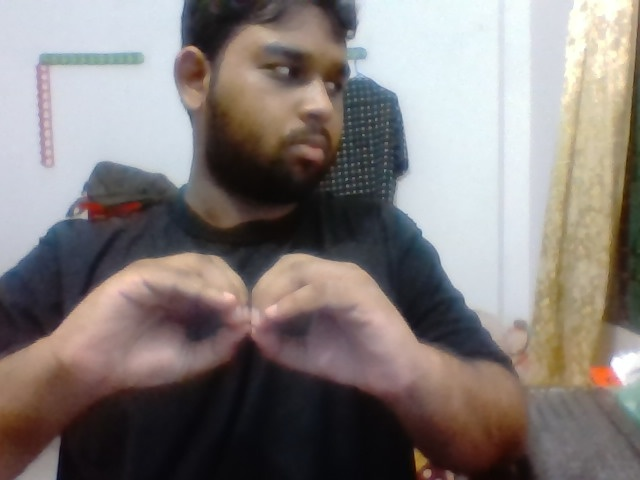B: (89, 235, 409, 410)
